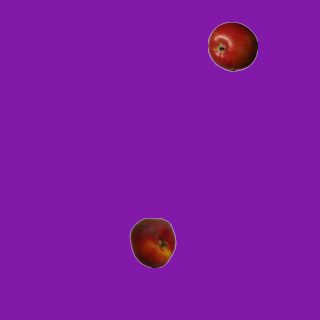Apple Braeburn: (207, 21, 257, 71)
Nectarine Flat: (127, 217, 177, 267)
